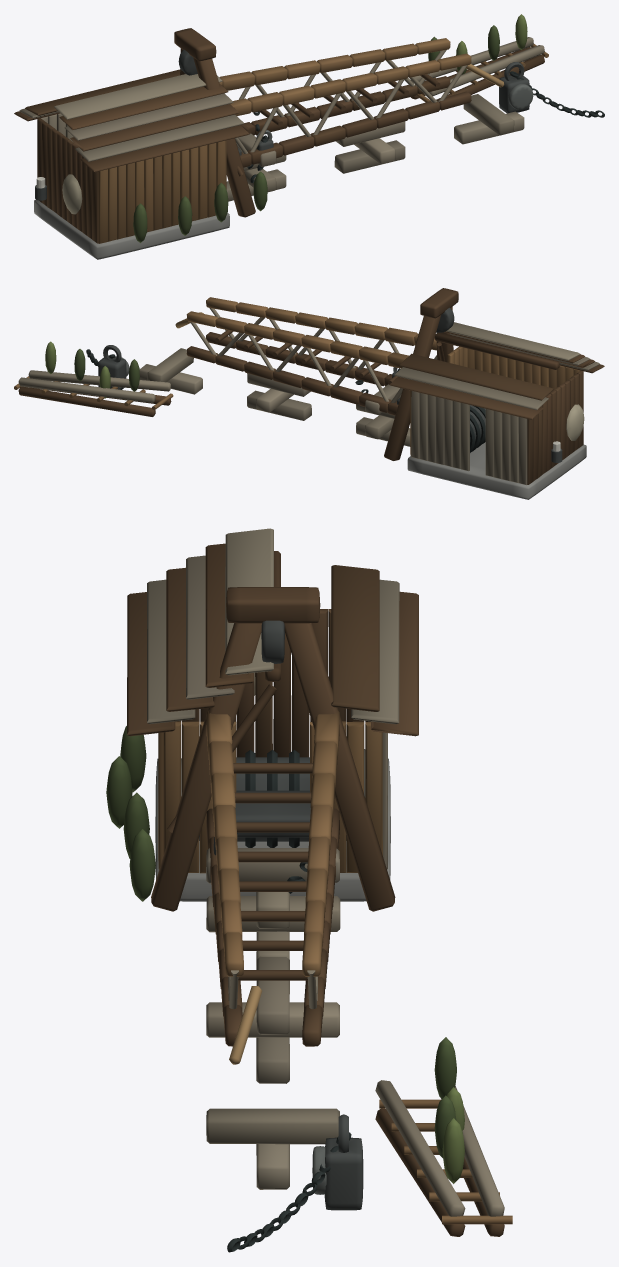
Rendered from boom_crane_wreck_c.glb.
3 renders of one model, top to bottom at view 1: azimuth 30°, elevation 25°; view 2: azimuth 150°, elevation 25°; view 3: azimuth 270°, elevation 25°, orthographic. The views are drawn at different scales.
Visible parts, largest first — view 1: Surface; view 2: Surface; view 3: Surface.
Part boxes in pixels (box(x1,y1,x2,y2)): Surface: box(14, 14, 604, 259); Surface: box(14, 288, 604, 499); Surface: box(106, 528, 512, 1252).
Size of the model in its own units: 14.68 by 4.34 by 5.17.
